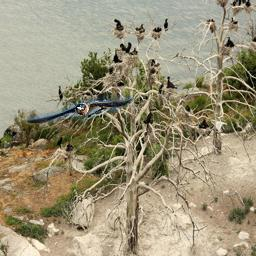Swallow: (26, 95, 134, 123)
